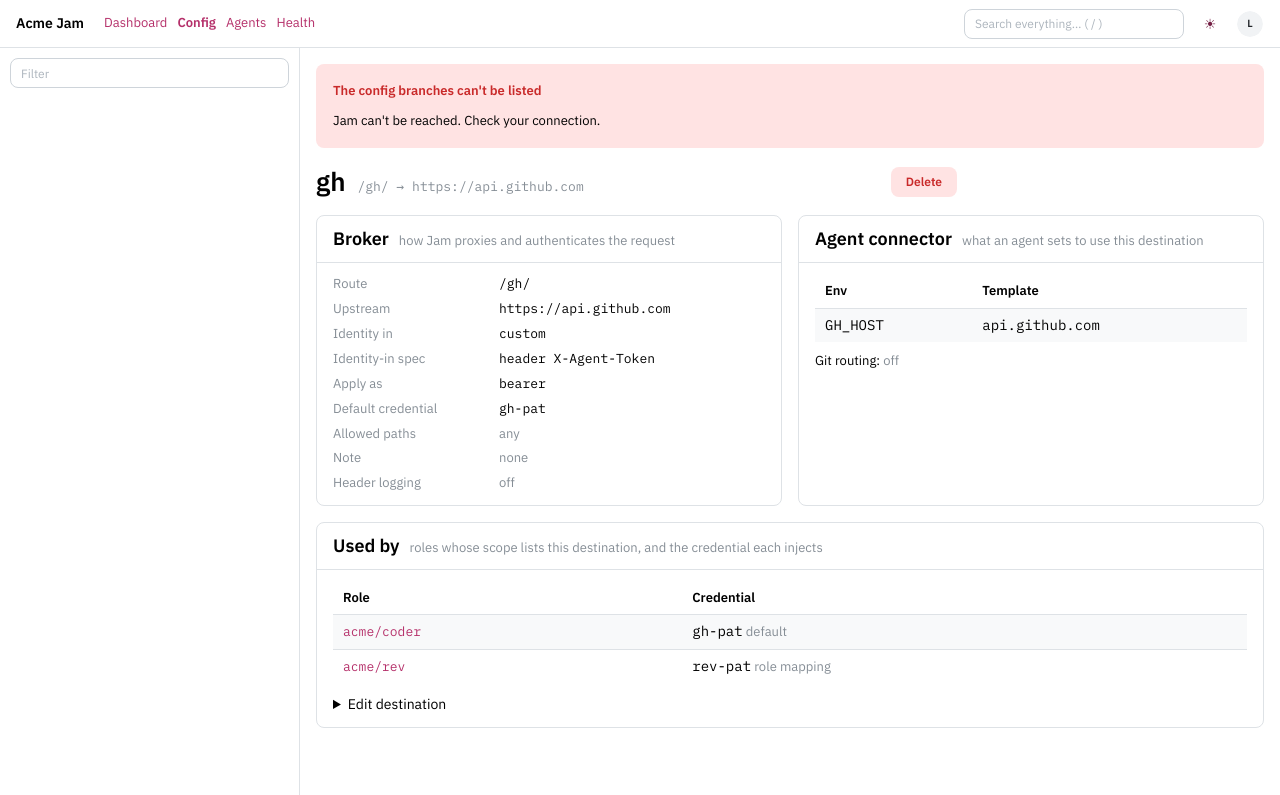
destinations › offers custom only to a destination that uses it
Check: the text "header X-Agent-Token" is shown, box [499, 350, 655, 367]
Click the heading "Edit destination" at (397, 704), box [348, 695, 446, 713]
(page scrolled)
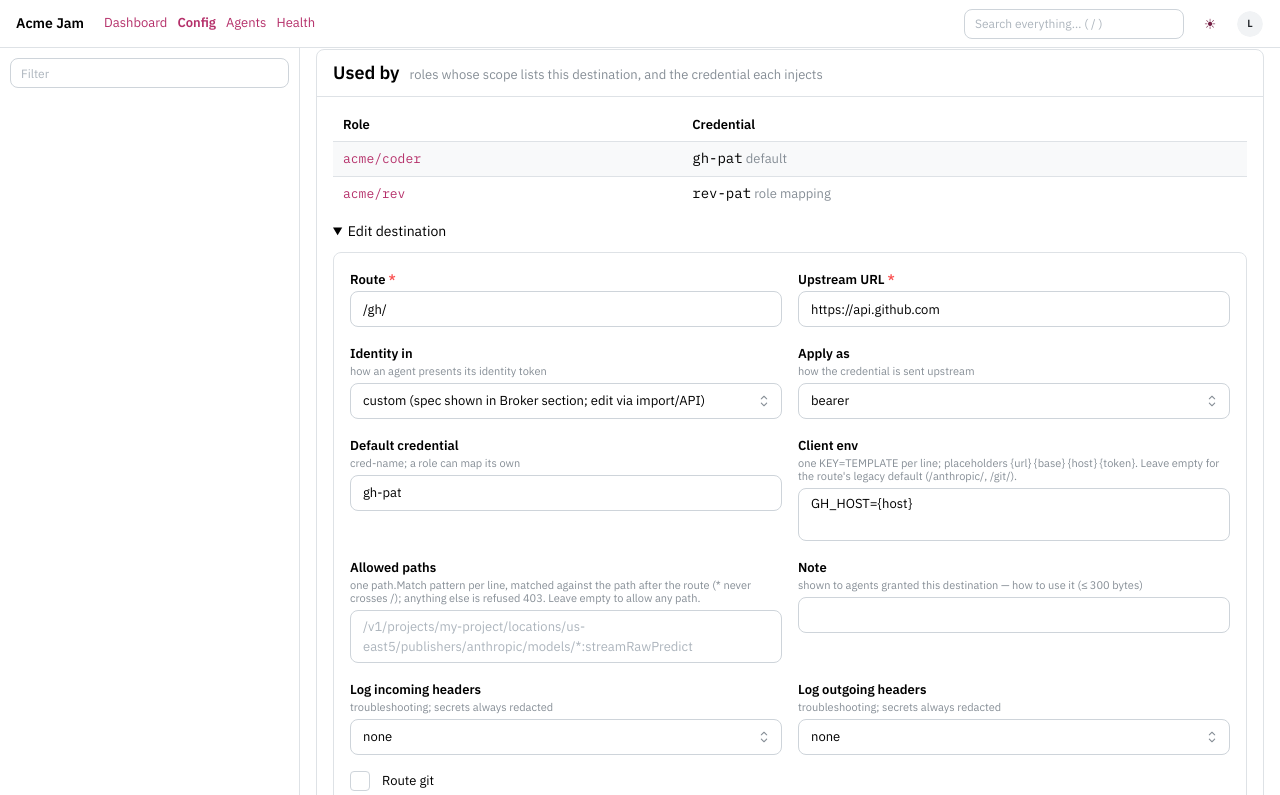
Check: the dropdown labelled "Identity in" shows "custom (spec shown in Broker section; edit via import/API)", box [350, 383, 782, 419]
